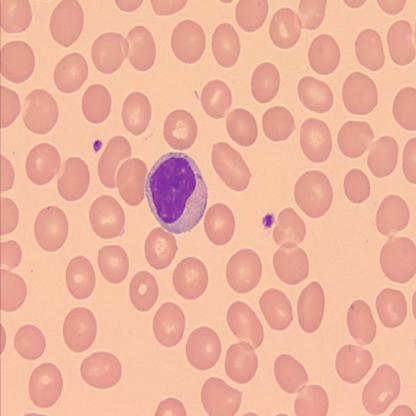Lymphocyte: (144, 149, 208, 235)
